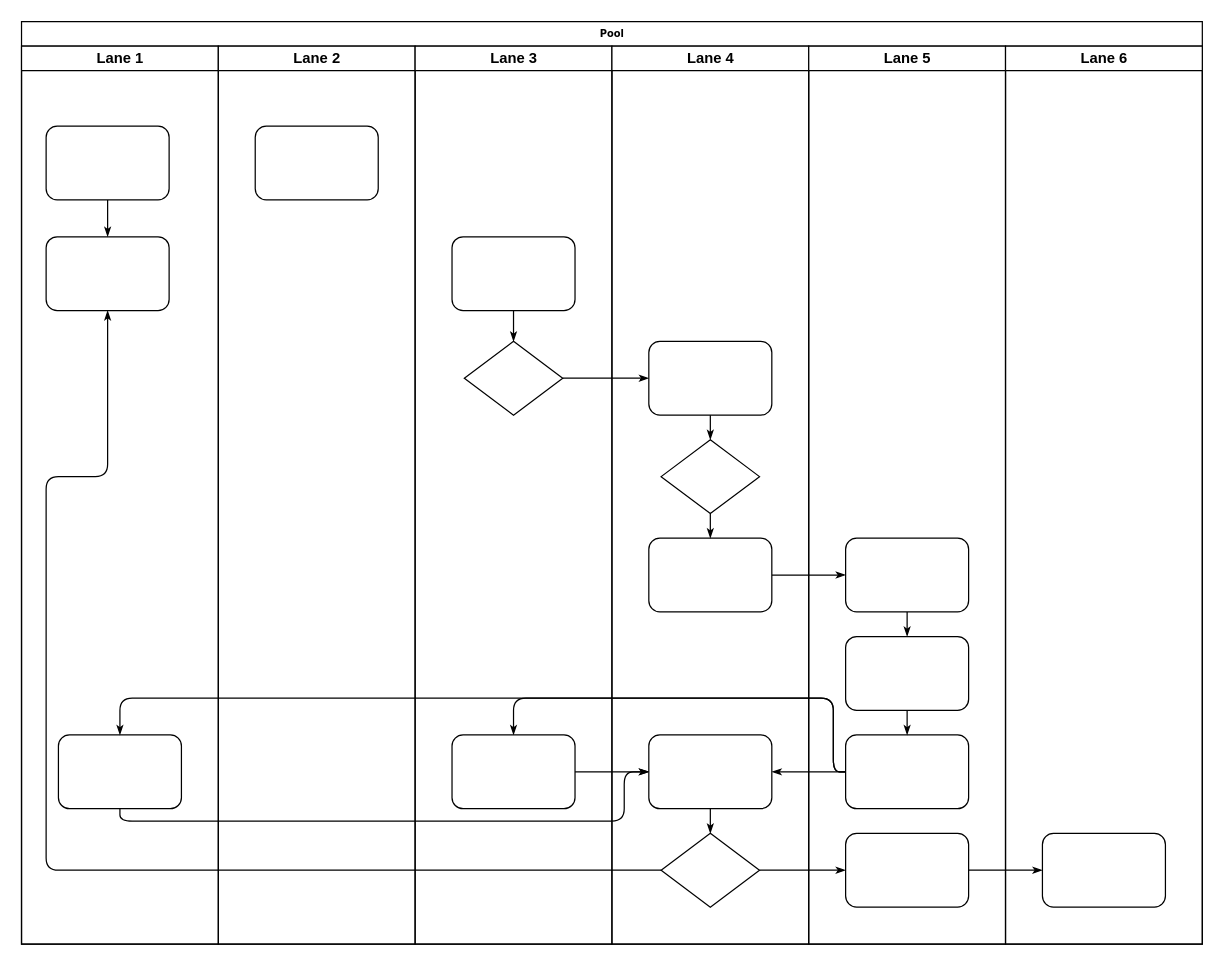
The diagram is 1224 pixels wide and 966 high, and some of its shapes have lost their labels. The centre of each missing label's shape, as x and y in pixels:
"API Spotipy" belongs at (107,162).
"User ID" belongs at (107,273).
